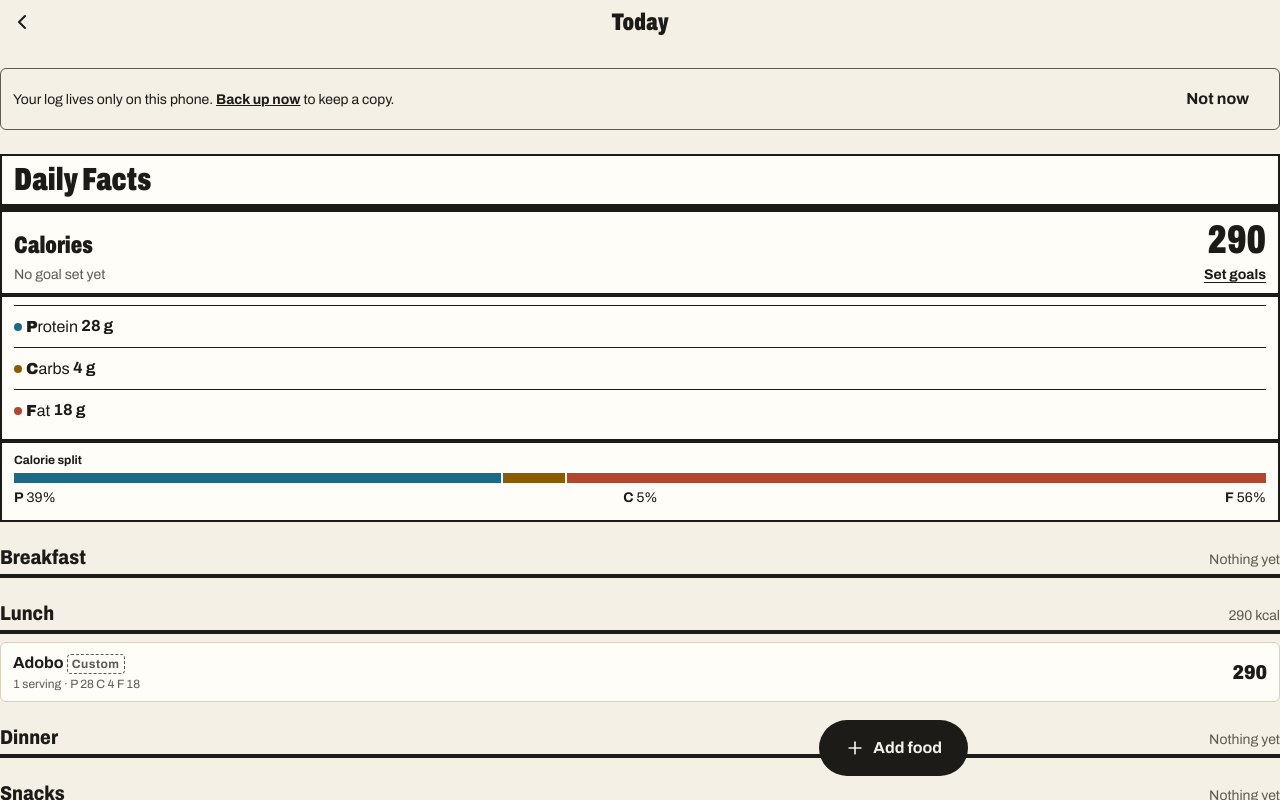
Test: Today logging › edits an entry amount and meal
What coordinates should you click on to do the following:
click the button "Adobo Custom 1 serving · P 28 C 4 F 18 290"
I would click on:
 (38, 662)
Its box is [0,642,1279,702].
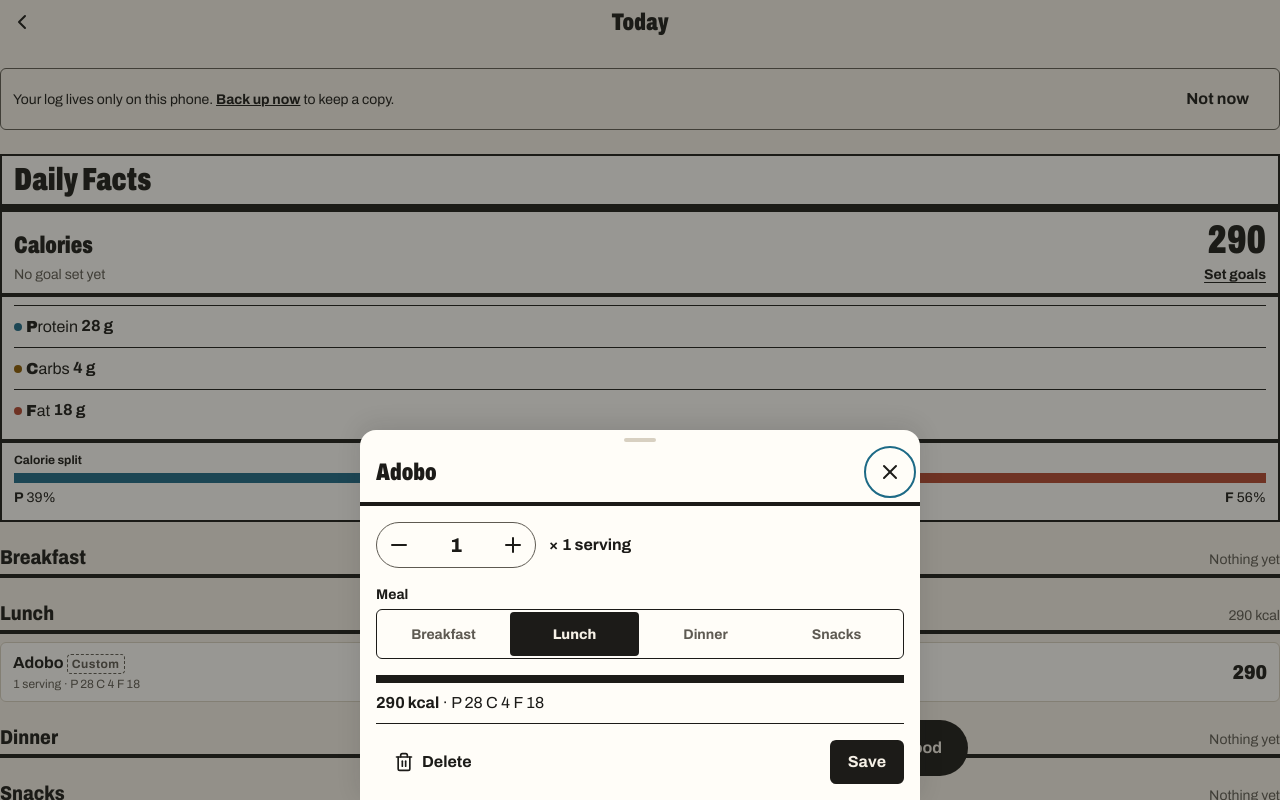
What coordinates should you click on to do the following:
click the button named "Increase amount"
I would click on:
 (514, 545)
Its box is [492,523,536,567].
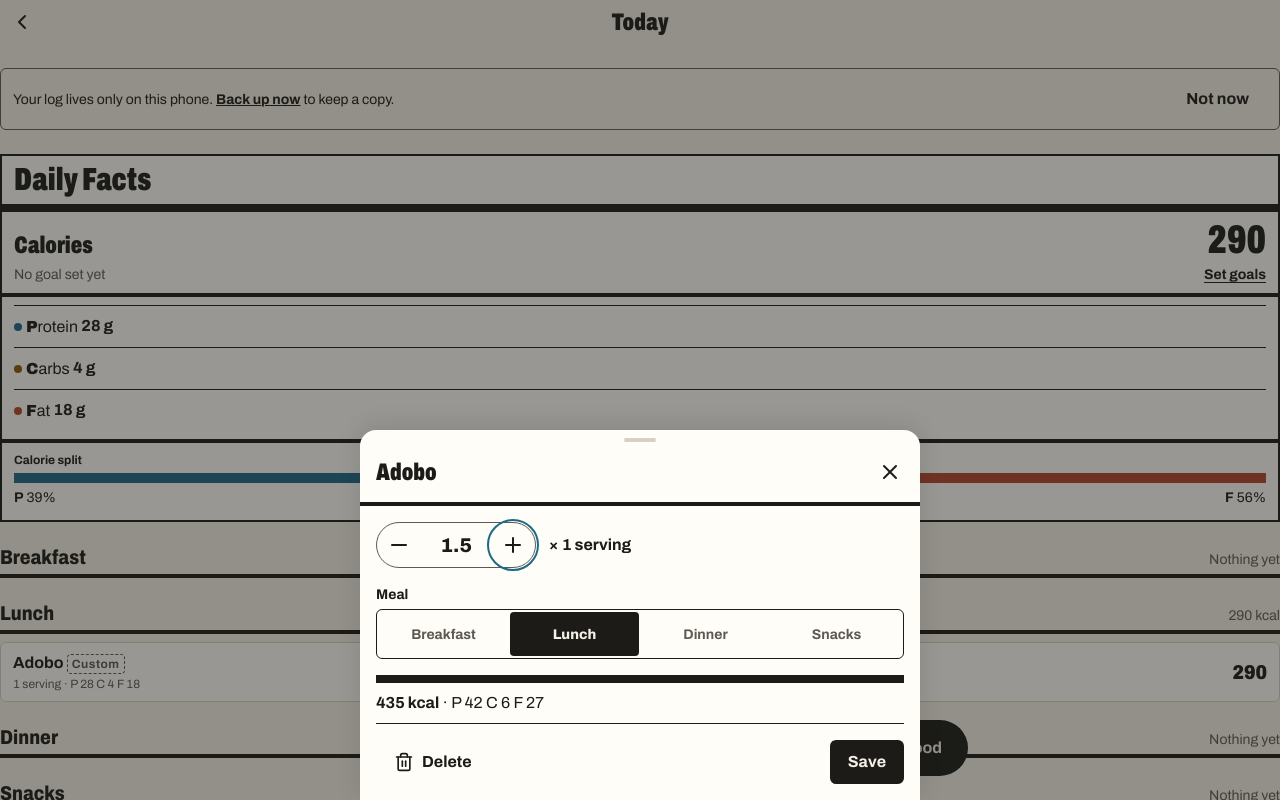
What coordinates should you click on to do the following:
click the radio button labelled "Dinner"
I would click on:
 (706, 634)
Its box is [683,626,728,642].
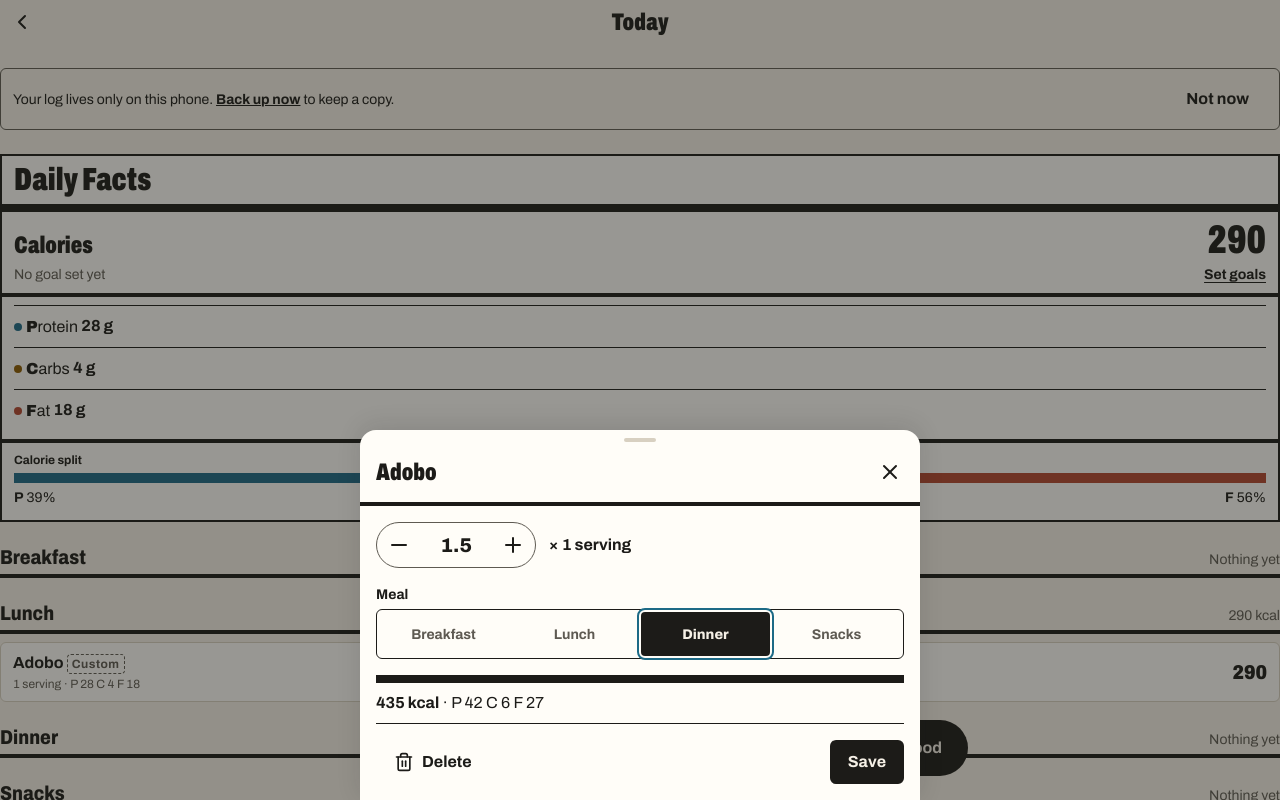
Check: the text "435 kcal" is shown, box [376,694,439,711]
What coordinates should you click on to do the following:
click the button "Save"
I would click on:
 (867, 762)
Its box is [830,740,904,784].
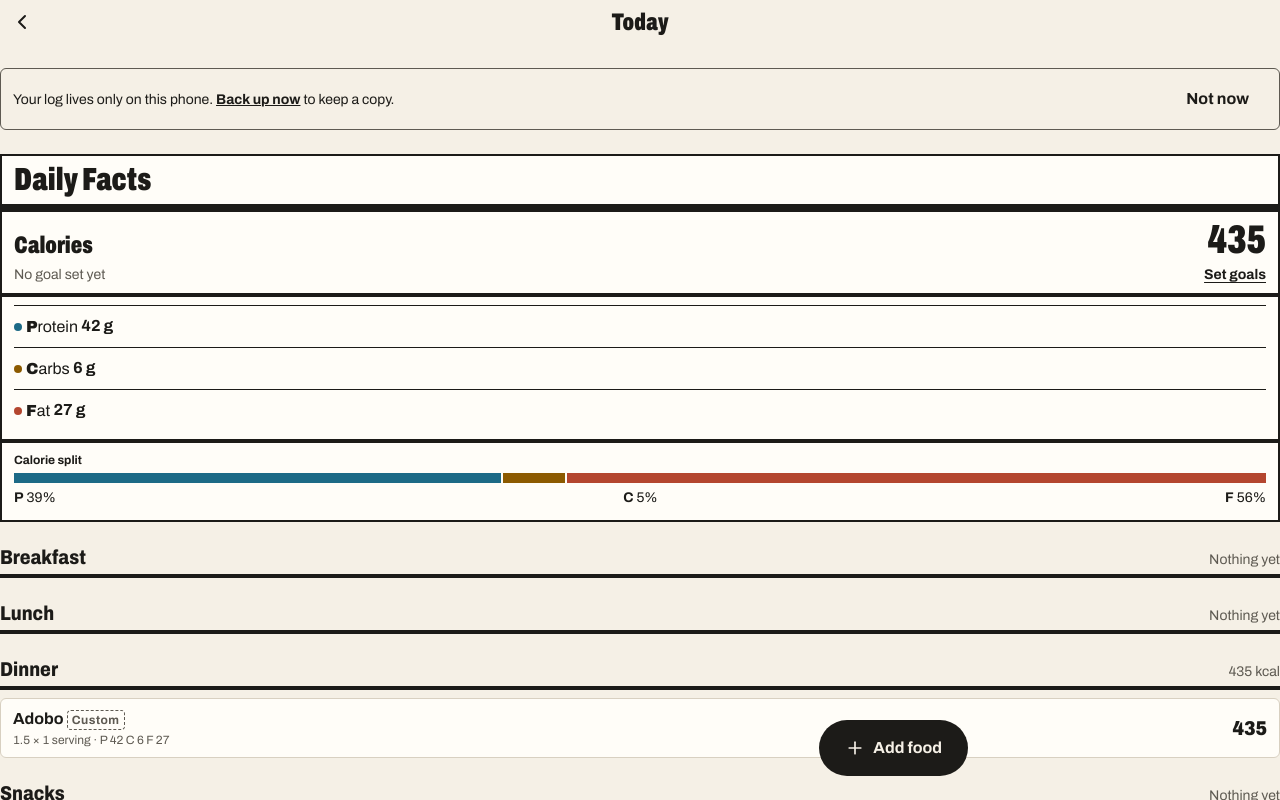
Check: the text "435 kcal" is shown, box [1228,661,1279,682]
